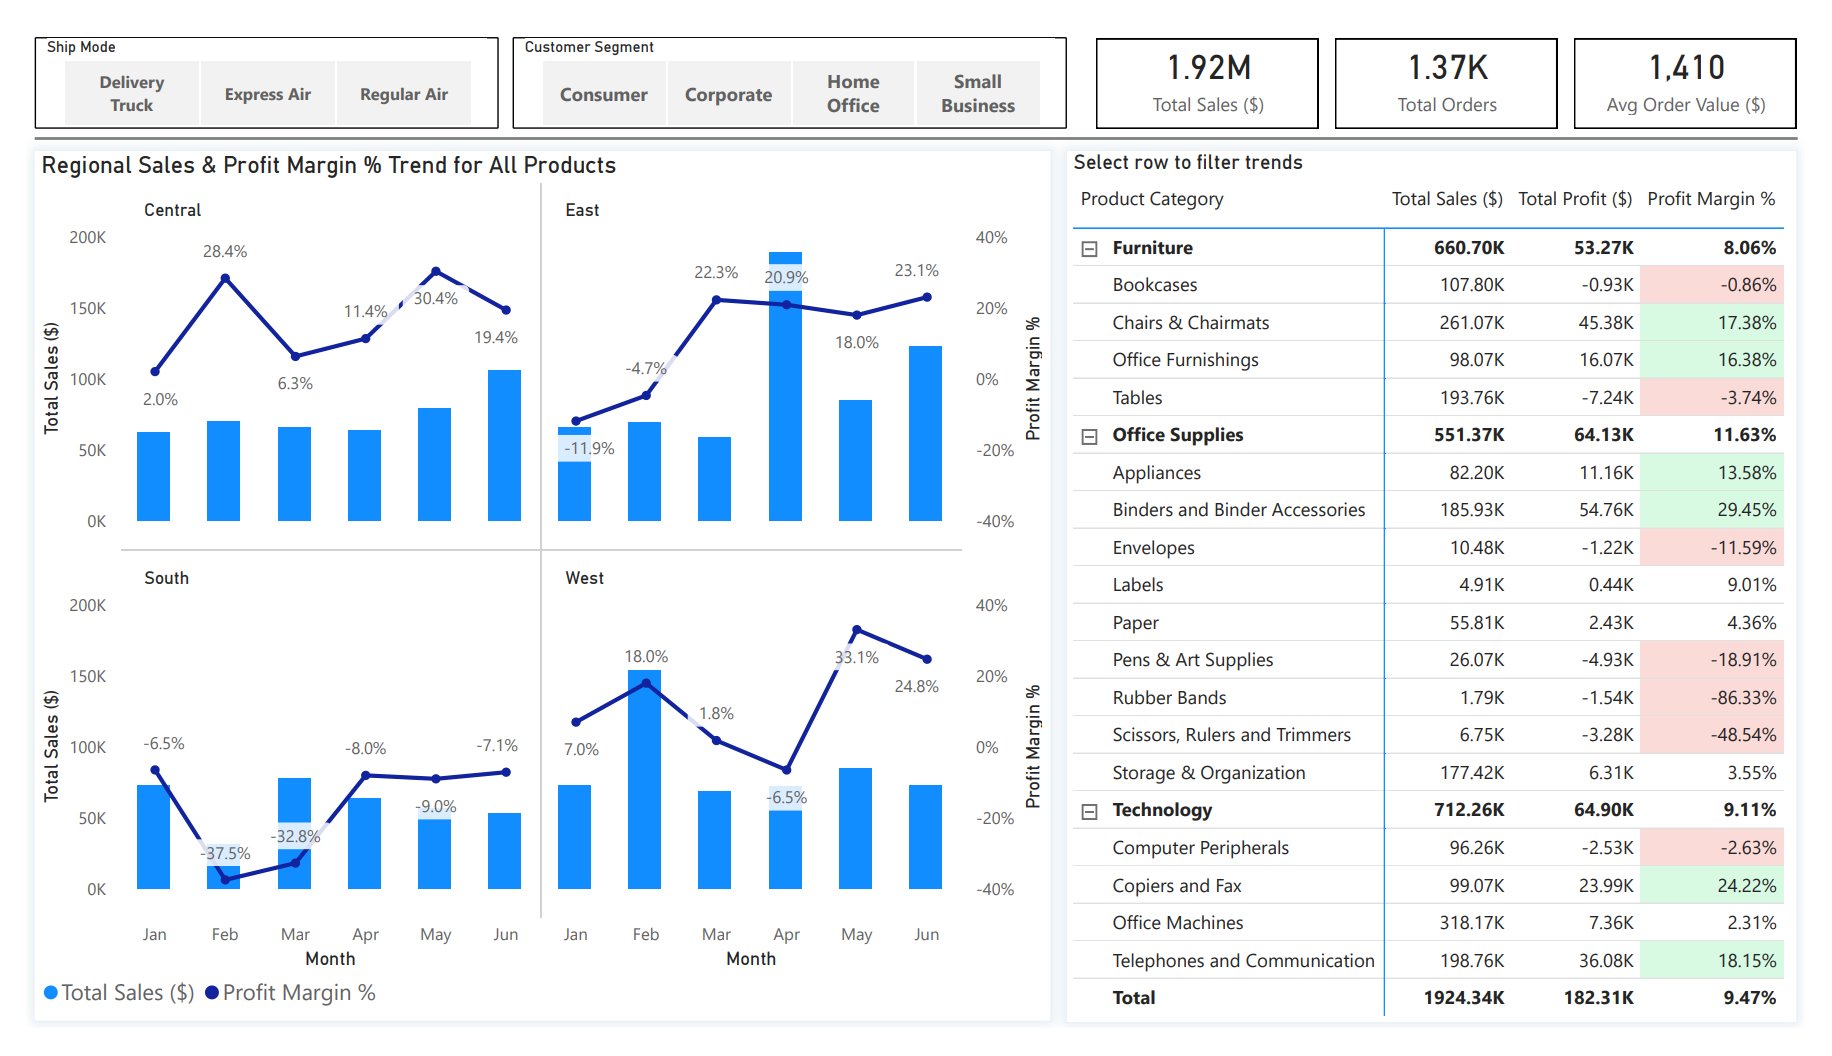

Layout of this report page (visuals, bound fields, positions):
{"tool":"powerbi","page":{"name":"Sales & Regional Overview","canvas":[1280,720],"ordinal":0},"visuals":[{"type":"lineClusteredColumnComboChart","fields":{"Category":["Dim_Date.Month"],"Rows":["Dim_Geography.Region"],"Y":["_Measures.Total Sales"],"Y2":["_Measures.Profit Margin %"]},"box":[5.5,87.8,732.8,628.5],"z":0},{"type":"cardVisual","fields":{"Data":["_Measures.Total Sales","_Measures.Total Orders","_Measures.Avg Order Value"]},"box":[770,7.9,505,65],"z":1000},{"type":"pivotTable","title":"Select row to filter trends","fields":{"Rows":["Dim_Product.Product Category","Dim_Product.Product Sub-Category"],"Values":["_Measures.Total Sales US","_Measures.Total Profit US","_Measures.Profit Margin %"]},"box":[748,87.8,527,629],"z":2000},{"type":"shape","box":[5.8,71.6,1269.5,16.8],"z":3000},{"type":"slicer","fields":{"Values":["Fact_Sales.Ship Mode"]},"box":[5.7,7.1,334.3,65.7],"z":4000},{"type":"slicer","fields":{"Values":["Dim_Customer.Customer Segment"]},"box":[350,7,399,66],"z":5000}]}

Visuals, with their boxes in screenshot pixels (x1, y1, x2, y2), scaled from the page's 1280x720 canvas onto the 1832x1056 screenshot:
lineClusteredColumnComboChart - Dim_Date.Month x Dim_Geography.Region: [8, 129, 1057, 1051]
cardVisual - _Measures.Total Sales x _Measures.Total Orders: [1102, 12, 1825, 107]
"Select row to filter trends" pivotTable: [1071, 129, 1825, 1051]
shape: [8, 105, 1825, 130]
slicer - Fact_Sales.Ship Mode: [8, 10, 487, 107]
slicer - Dim_Customer.Customer Segment: [501, 10, 1072, 107]
